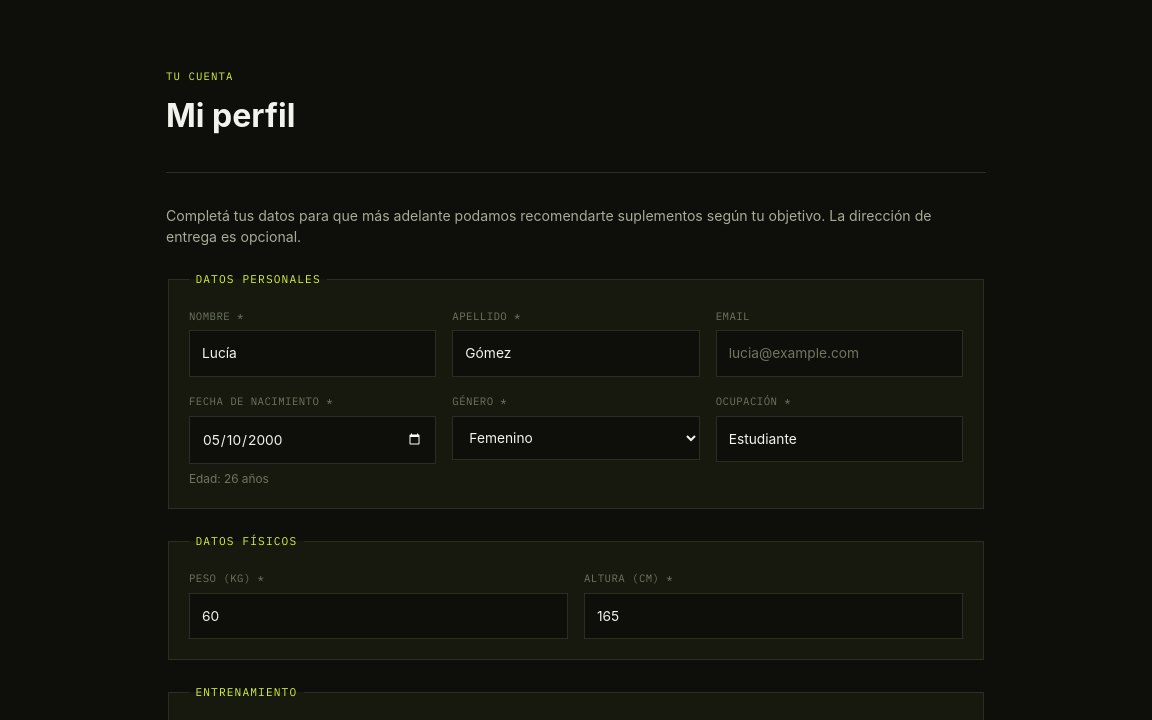
Test: ClientProfile › the error disappears as soon as the user fixes the field
The width and height of the screenshot is (1152, 720).
Clear the number field labelled "Peso (kg) *" at coordinates (378, 616), box [189,593,568,639]
(page scrolled)
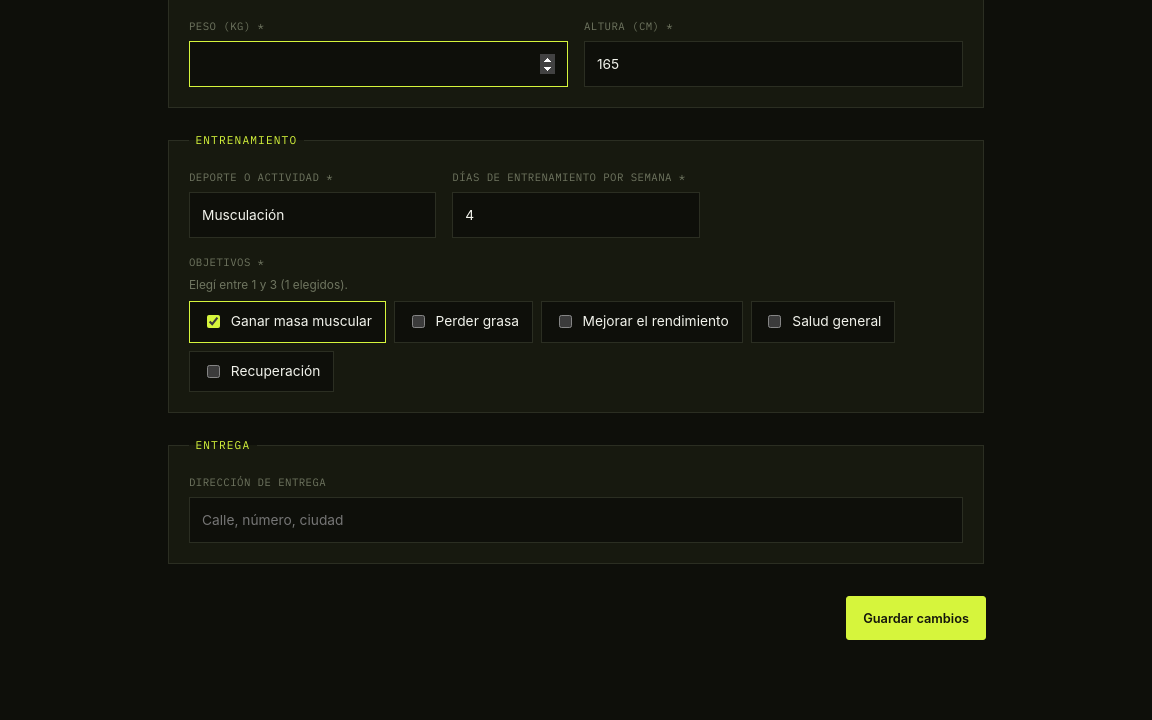
Click the button "Guardar cambios" at coordinates (916, 618), box [846,596,986,640]
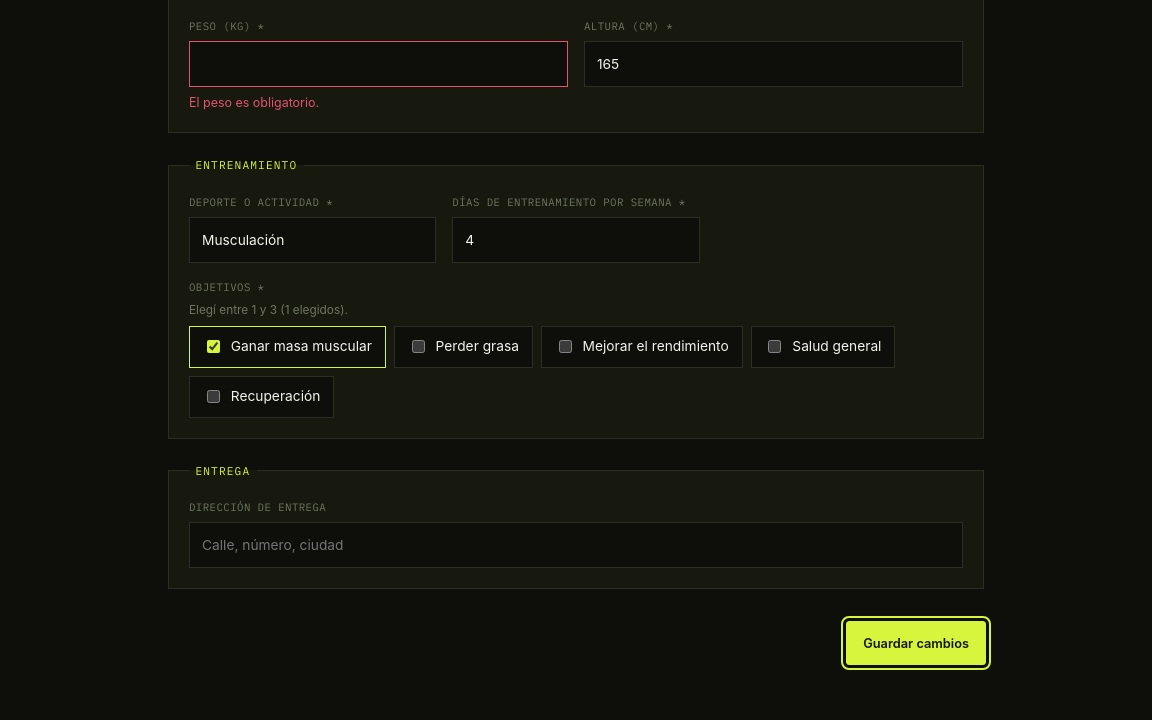
Now the text "El peso es obligatorio." is shown, box [189,95,319,110]
Type "70" into the number field labelled "Peso (kg) *" at coordinates (378, 64), box [189,41,568,87]
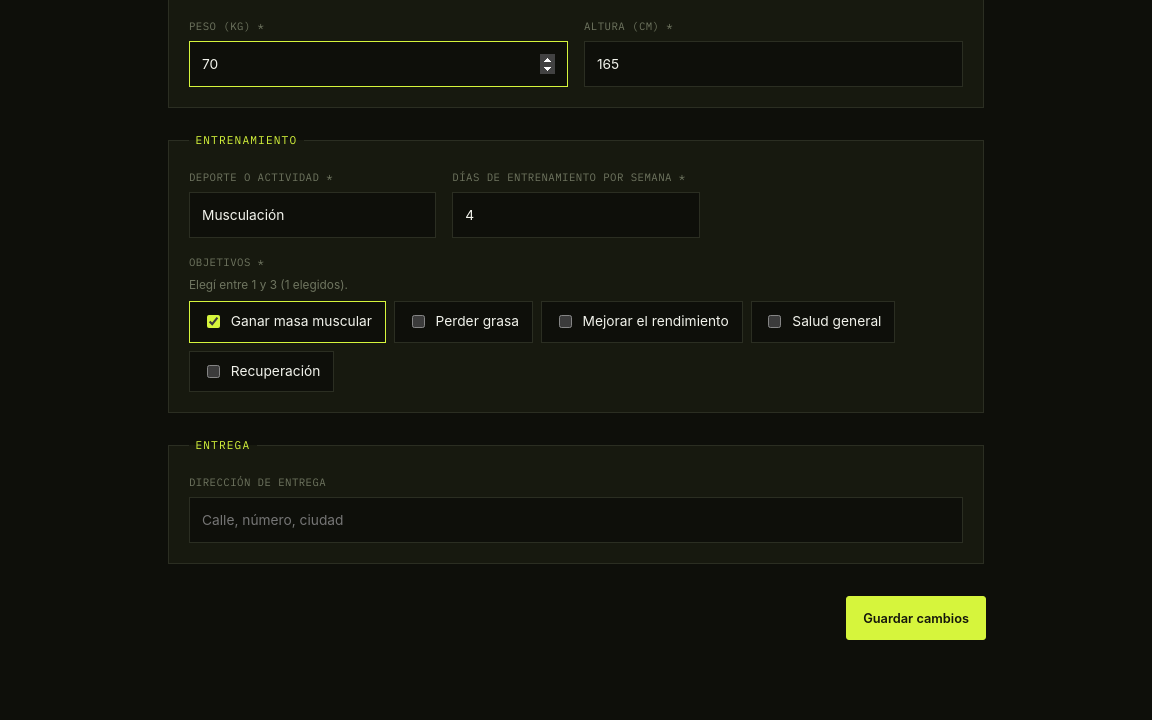
Now the text "El peso es obligatorio." is gone
